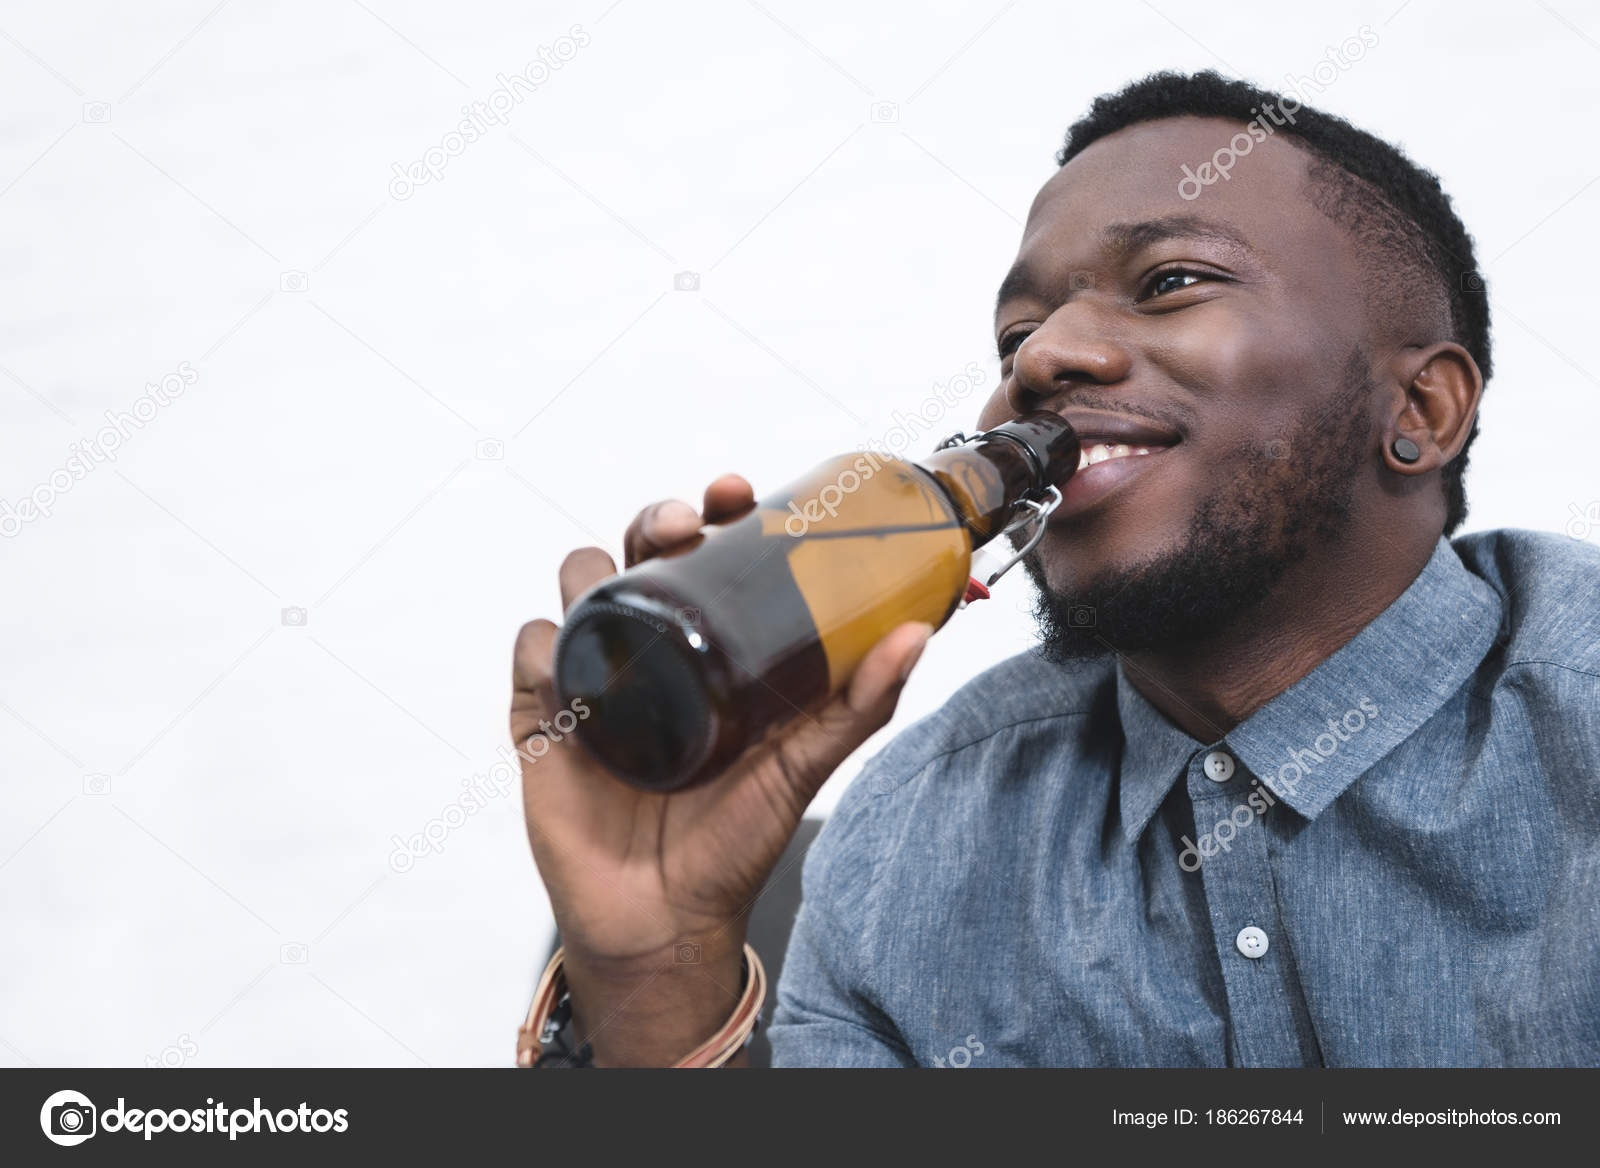beerBottle: (548, 401, 1081, 785)
